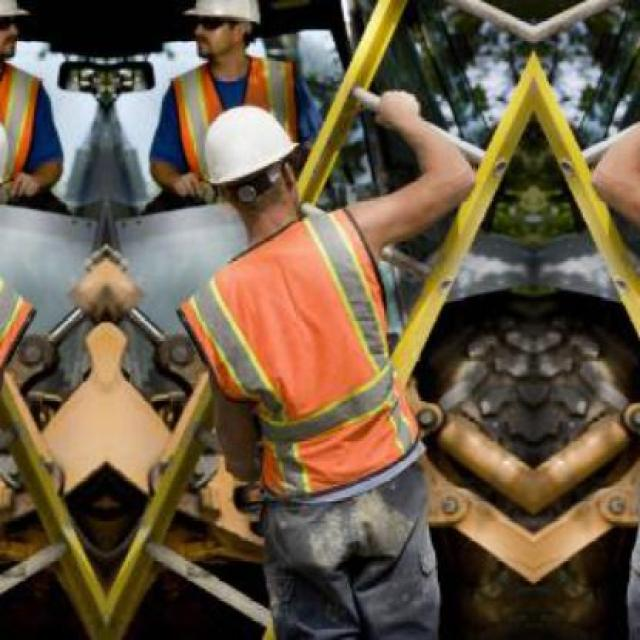helmet: (180, 88, 314, 232), (0, 88, 32, 234), (187, 2, 256, 63), (0, 1, 26, 64)
